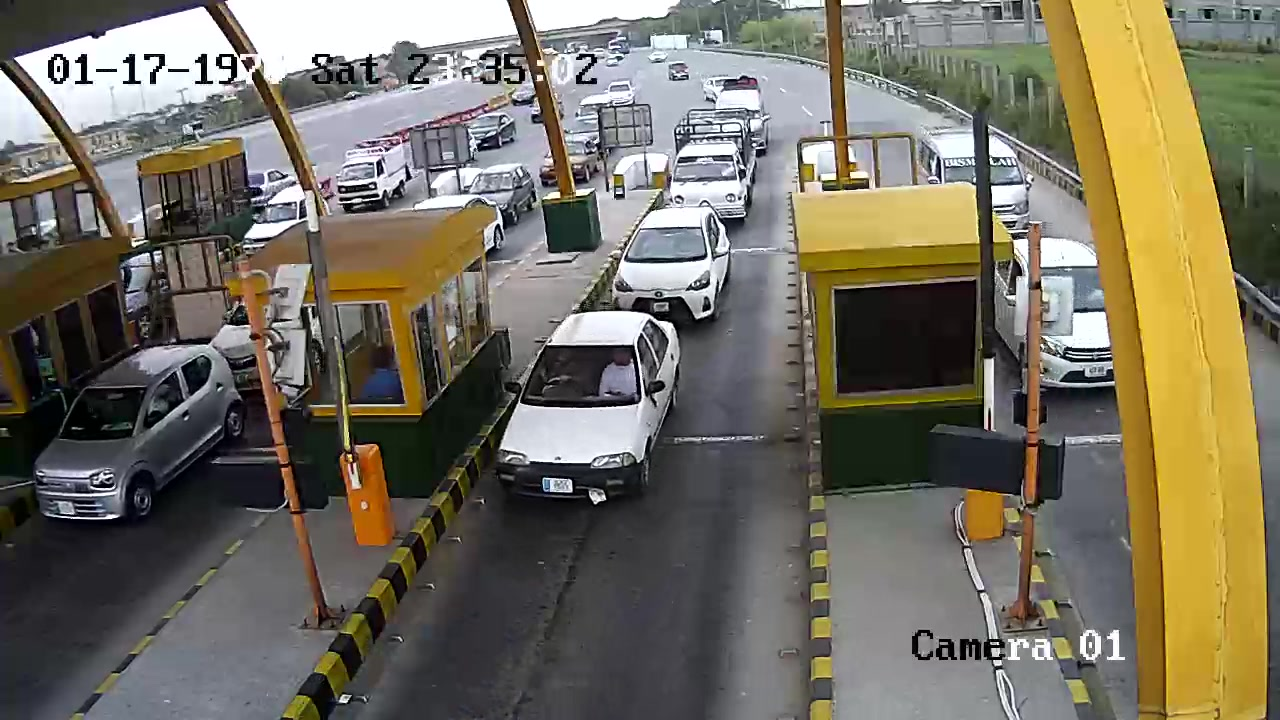F1: (489, 316, 699, 521), (607, 205, 739, 318)
